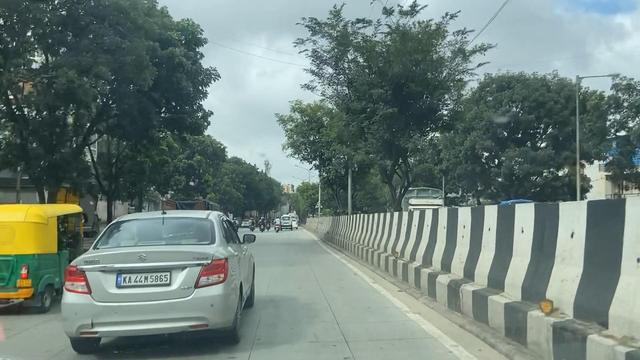LMV: (69, 202, 264, 341), (0, 213, 83, 295)
